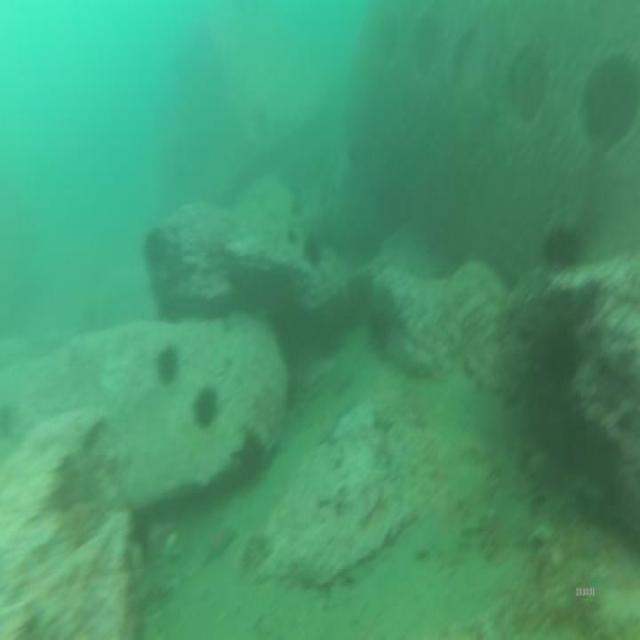echinus: (544, 216, 583, 274), (188, 378, 226, 436), (153, 335, 183, 390), (242, 427, 266, 480)
starfish: (203, 518, 239, 569)
